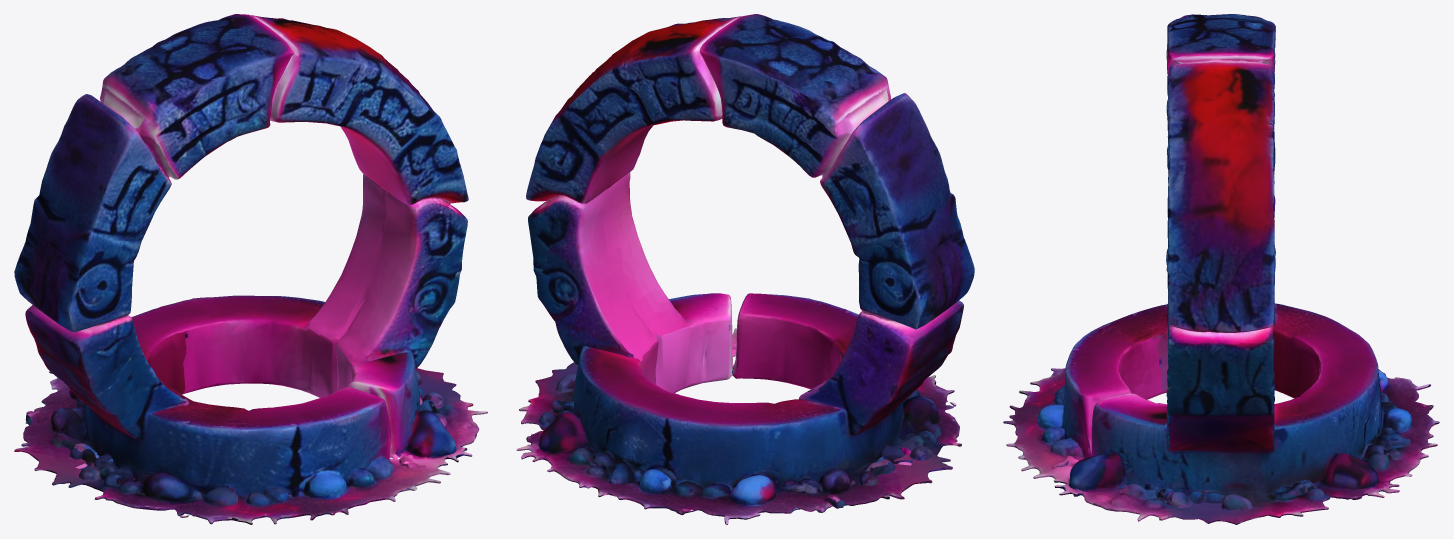
The model's file is well-of-mimir-ring-generated-2026-05-17T18-01-18-242Z.medium.glb.
The picture shows the model from 3 angles, left to right: view 1: azimuth 30°, elevation 25°; view 2: azimuth 150°, elevation 25°; view 3: azimuth 270°, elevation 25°; orthographic projection. The views are drawn at different scales.
Parts seen in each view (by area): view 1: temp_mesh.ply; view 2: temp_mesh.ply; view 3: temp_mesh.ply.
Part boxes in pixels (x1,y1,x2,y2): temp_mesh.ply: (14, 14, 487, 524); temp_mesh.ply: (516, 14, 974, 524); temp_mesh.ply: (1003, 14, 1439, 524).
Bounding box in the file's own units: 1.97 × 1.83 × 1.87.
1 material, 1 textured.
